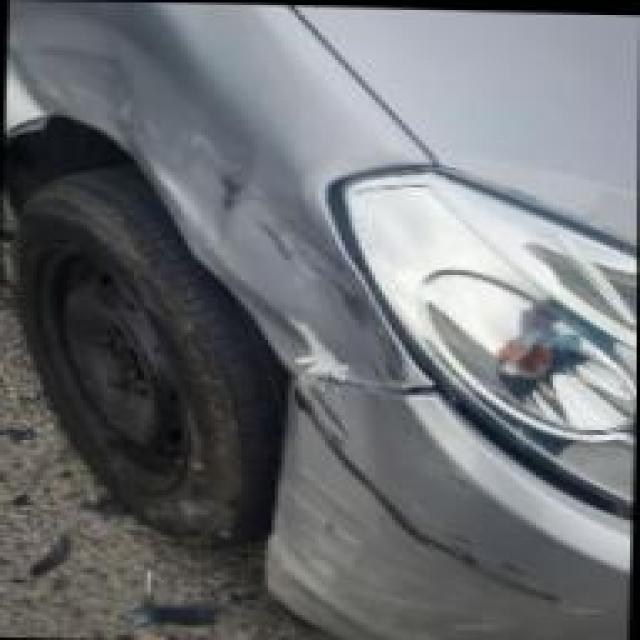Bumper: (265, 382, 635, 639)
Fender: (164, 102, 381, 370)
